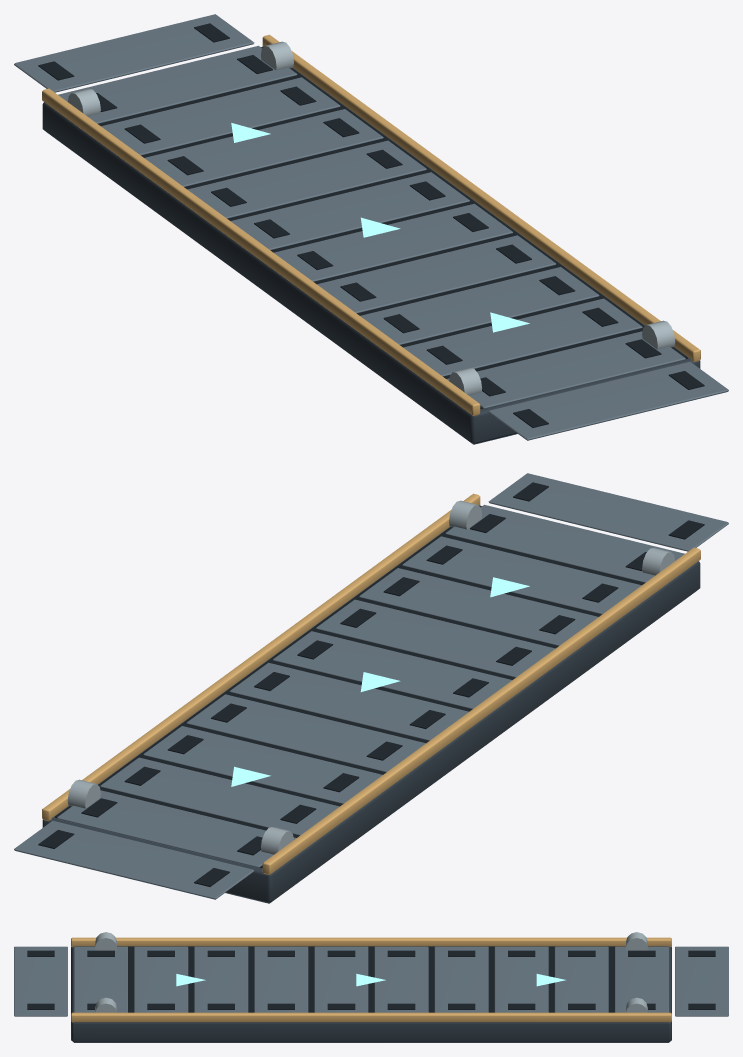
File: nyanisyarud-camera-film-conveyor.glb
The picture shows the model from 3 angles, top to bottom: view 1: azimuth 30°, elevation 25°; view 2: azimuth 150°, elevation 25°; view 3: azimuth 270°, elevation 25°; orthographic projection. The views are drawn at different scales.
Parts seen in each view (by area): view 1: BeltLoop_edge, BeltBase, film-conveyor_brass, BeltLoop_black, RubberSurface, film-conveyor_steel, film-conveyor_cyan; view 2: BeltLoop_edge, BeltBase, film-conveyor_brass, BeltLoop_black, RubberSurface, film-conveyor_steel, film-conveyor_cyan; view 3: BeltLoop_edge, BeltBase, film-conveyor_brass, RubberSurface, BeltLoop_black, film-conveyor_steel, film-conveyor_cyan.
Part boxes in pixels (<box>): BeltLoop_edge: <box>14,14,728,440</box>; BeltBase: <box>42,46,700,444</box>; film-conveyor_brass: <box>42,34,700,415</box>; BeltLoop_black: <box>38,23,704,427</box>; RubberSurface: <box>98,47,687,408</box>; film-conveyor_steel: <box>68,41,675,395</box>; film-conveyor_cyan: <box>231,123,529,332</box>; BeltLoop_edge: <box>14,473,728,899</box>; BeltBase: <box>42,505,700,903</box>; film-conveyor_brass: <box>42,493,700,874</box>; BeltLoop_black: <box>38,482,704,886</box>; RubberSurface: <box>55,506,644,867</box>; film-conveyor_steel: <box>67,500,674,854</box>; film-conveyor_cyan: <box>231,577,529,786</box>; BeltLoop_edge: <box>14,946,728,1016</box>; BeltBase: <box>71,946,671,1042</box>; film-conveyor_brass: <box>71,937,671,1022</box>; RubberSurface: <box>76,946,666,1012</box>; BeltLoop_black: <box>27,950,715,1009</box>; film-conveyor_steel: <box>95,932,647,1012</box>; film-conveyor_cyan: <box>176,973,565,986</box>.
Bounding box in the file's own units: 3.7 × 0.82 × 14.28.
